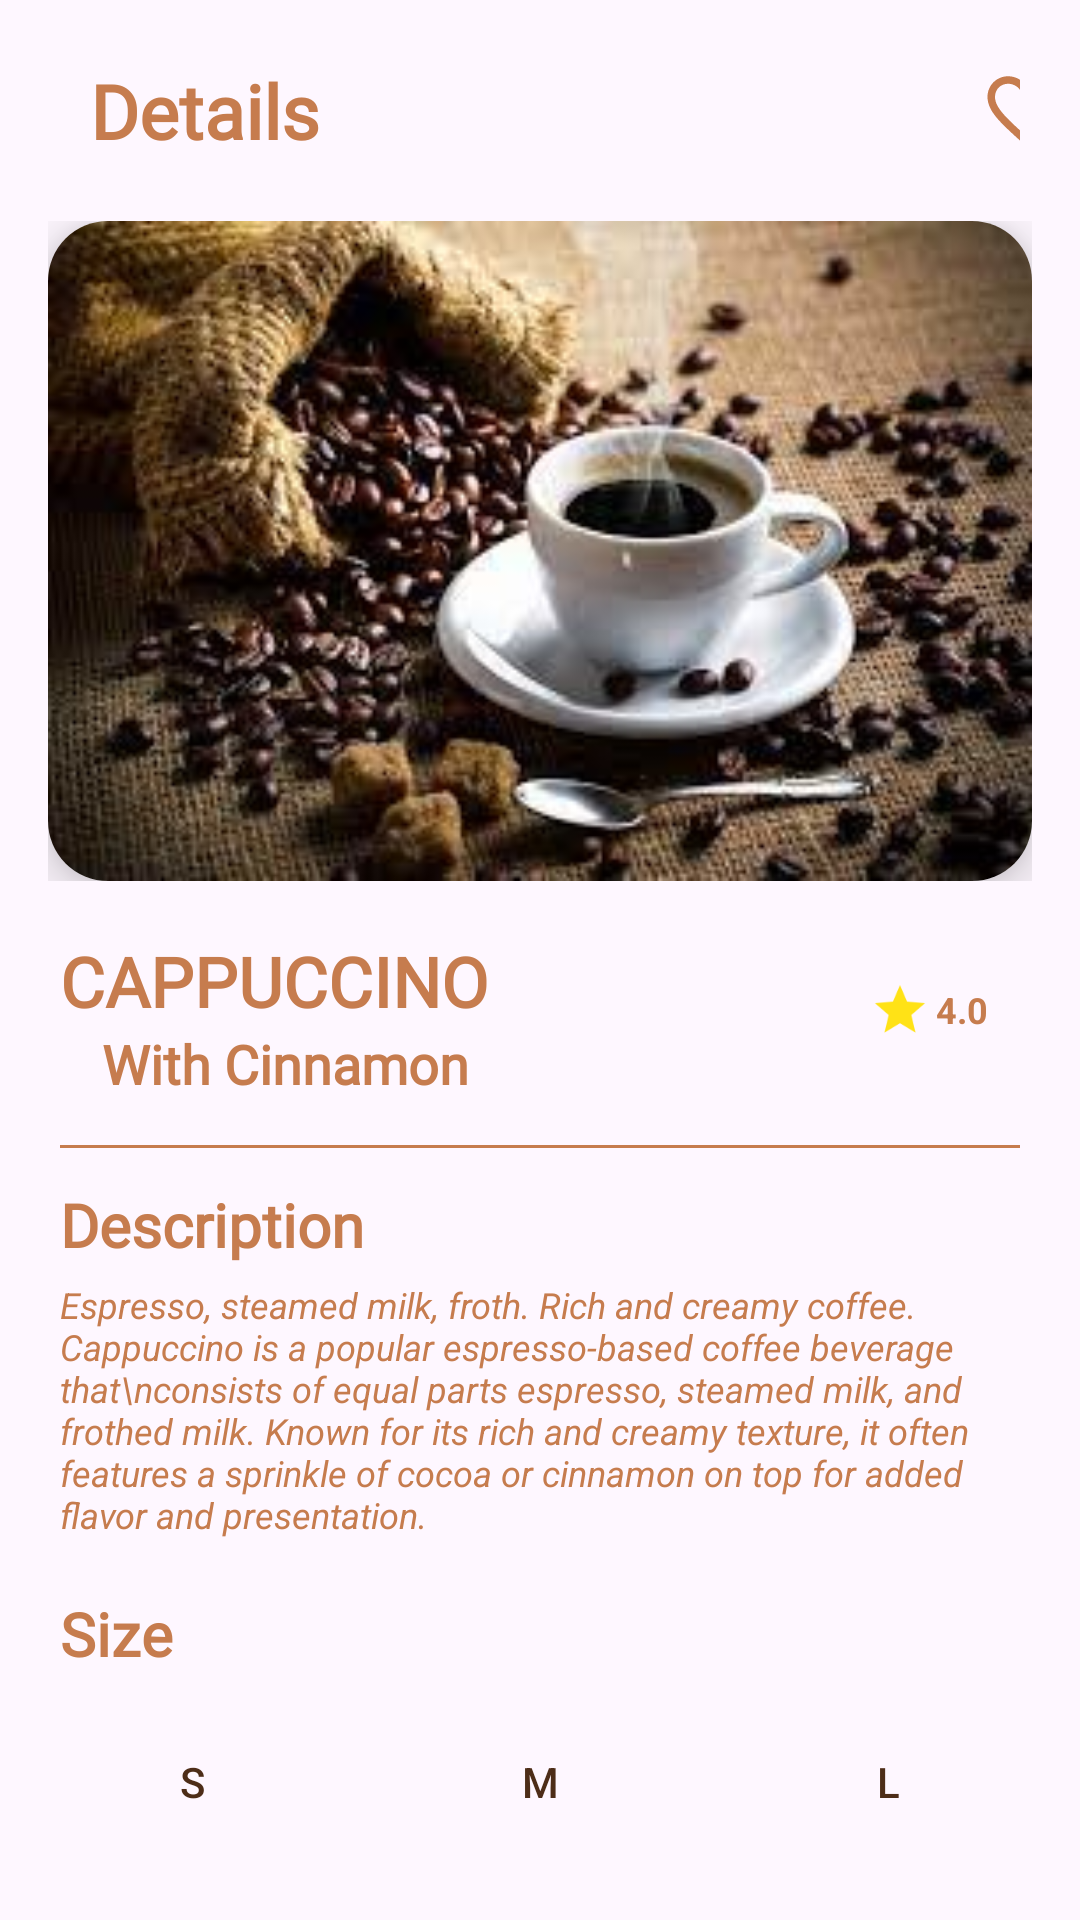

Screen size 1080 × 1920. Icon name, then its box in pixels as (x1, y1, x2, y2):
star: (875, 985, 925, 1033)
